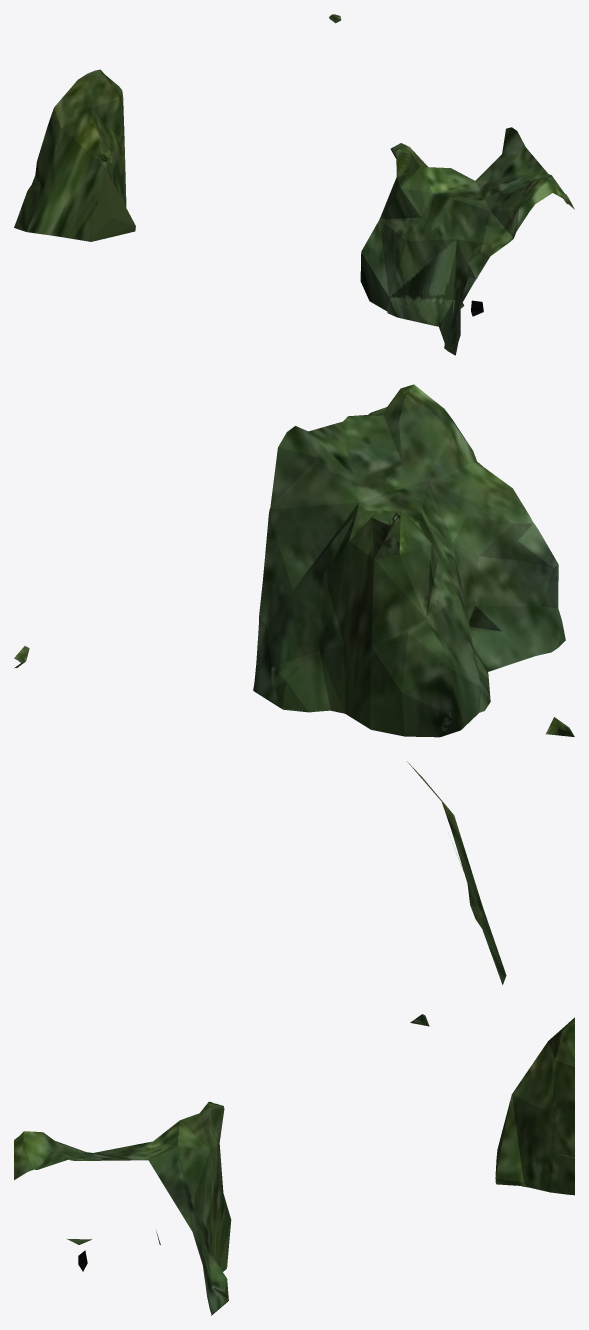
3 renders of one model, top to bottom at view 1: azimuth 30°, elevation 25°; view 2: azimuth 150°, elevation 25°; view 3: azimuth 270°, elevation 25°, orthographic. The views are drawn at different scales.
Size of the model in its own units: 0.6394 by 0.2933 by 0.8374.
Materials: 1 (1 with a texture image).
